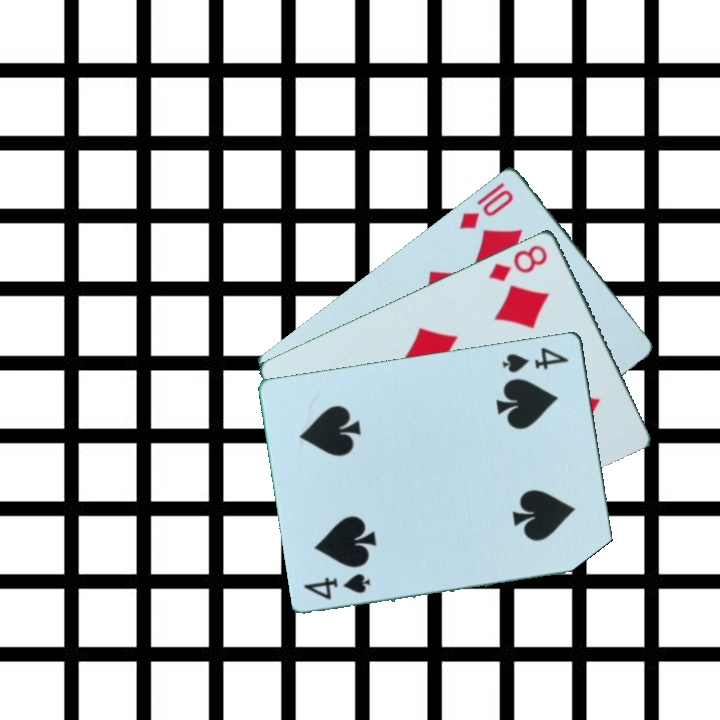10d: (455, 178, 517, 232)
4s: (301, 569, 374, 603), (499, 343, 572, 375)
8d: (485, 240, 551, 285)
